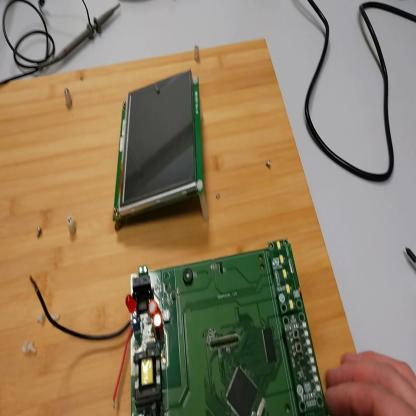hand: (326, 349, 416, 415)
low voltage board: (32, 241, 331, 415)
oscilloscope probe tip: (36, 1, 122, 73)
screwdriver-: (405, 245, 416, 267)
working area: (1, 38, 369, 414)
